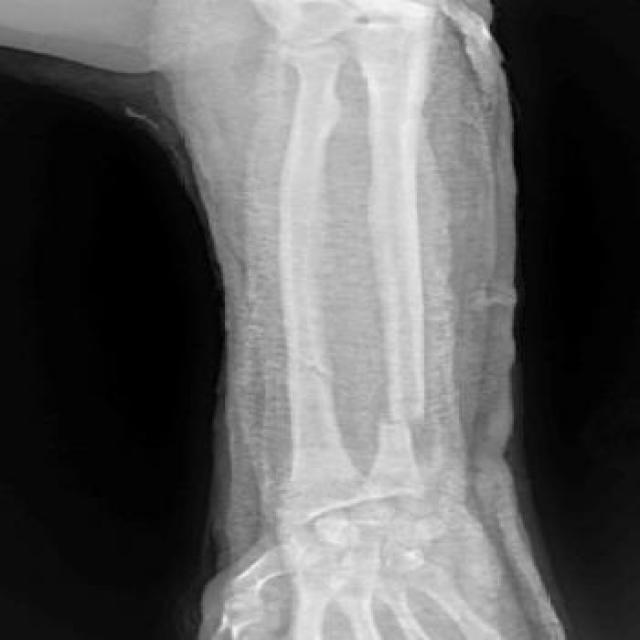fracture: (359, 402, 447, 446)
